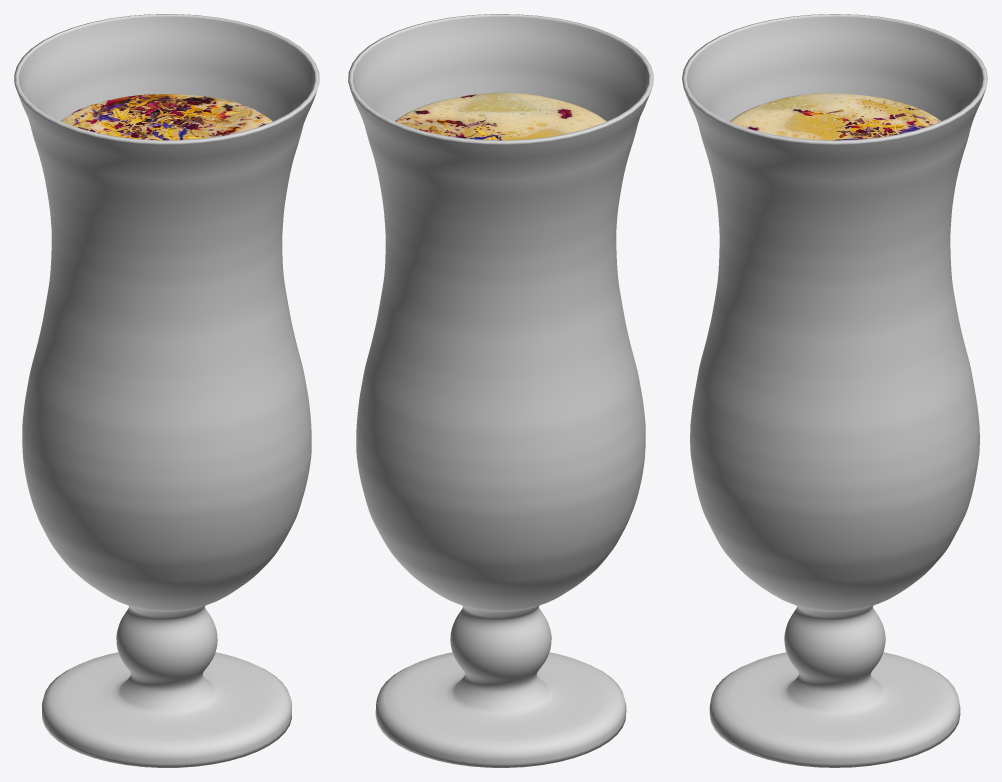
Rendered from Chair.glb.
3 views of the same model, side by side, from view 1: azimuth 30°, elevation 25°; view 2: azimuth 150°, elevation 25°; view 3: azimuth 270°, elevation 25° (orthographic).
Visible parts, largest first — view 1: glass, juice; view 2: glass, juice; view 3: glass, juice.
Boxes of the visible parts, x1=… form: glass: x1=14, y1=14, x2=319, y2=767; juice: x1=61, y1=93, x2=272, y2=140; glass: x1=348, y1=14, x2=653, y2=767; juice: x1=395, y1=92, x2=606, y2=140; glass: x1=682, y1=14, x2=987, y2=767; juice: x1=729, y1=93, x2=940, y2=140.
Bounding box in the file's own units: 0.0669 × 0.1537 × 0.0669.
Materials: 2 (1 with a texture image).
